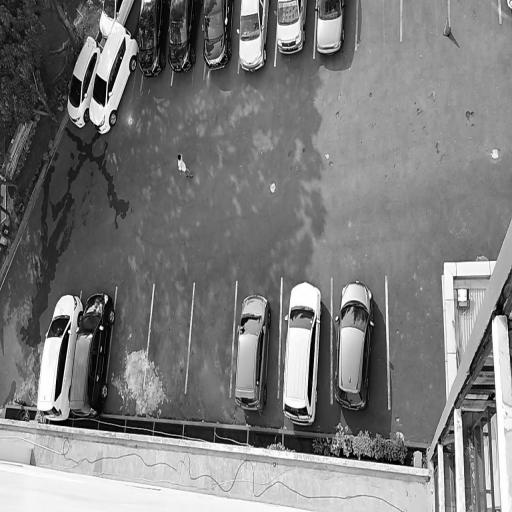Car: (280, 275, 324, 427), (67, 288, 116, 420), (35, 289, 83, 423), (87, 17, 138, 137), (334, 275, 376, 412), (231, 289, 272, 416), (65, 30, 104, 131), (167, 0, 201, 78), (137, 0, 169, 80), (237, 0, 272, 73), (202, 0, 234, 71), (313, 0, 346, 59), (276, 0, 308, 53), (97, 0, 134, 41)
Space Available: (388, 274, 435, 408), (186, 280, 236, 395), (144, 283, 194, 392), (107, 284, 153, 386), (357, 0, 401, 50), (402, 0, 450, 40), (450, 0, 500, 28)
